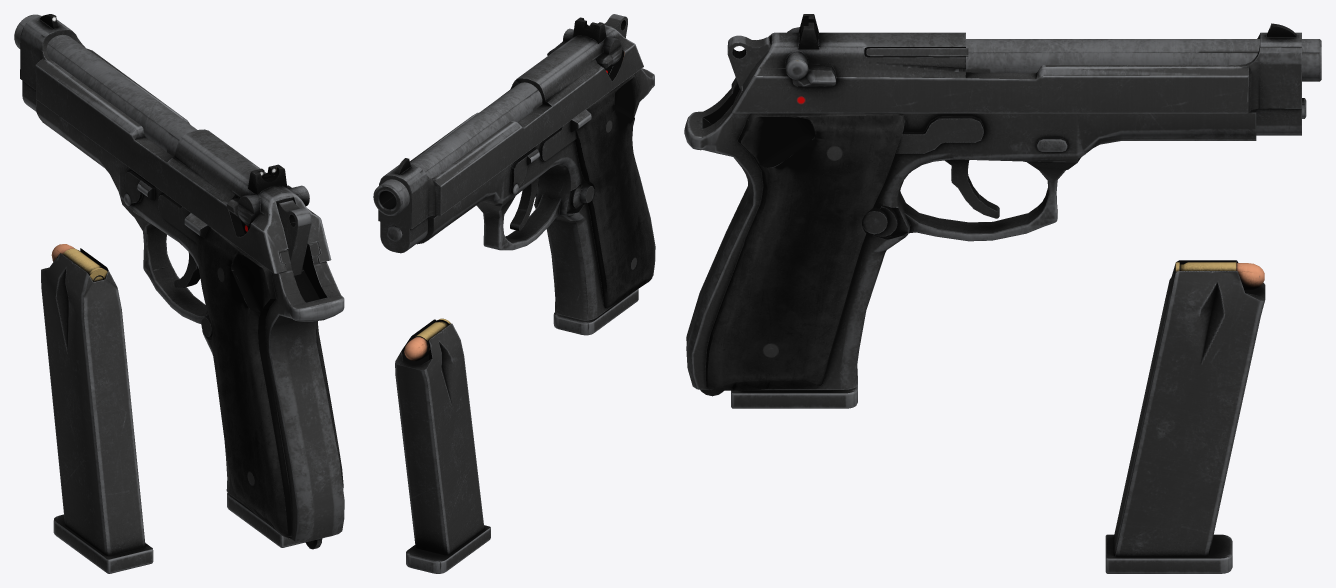
3 views of the same model, side by side, from view 1: azimuth 30°, elevation 25°; view 2: azimuth 150°, elevation 25°; view 3: azimuth 270°, elevation 25° (orthographic). The views are drawn at different scales.
Visible parts, largest first — view 1: Cube, Cube.007, Cube.001, Cube.002, Cube.003; view 2: Cube, Cube.007, Cube.001, Cube.003; view 3: Cube, Cube.001, Cube.007, Cube.003, Cube.002.
Part boxes in pixels (x1,y1,x2,y2): Cube: (14,14,344,549); Cube.007: (41,244,153,573); Cube.001: (20,14,331,273); Cube.002: (278,200,311,275); Cube.003: (227,492,324,547); Cube: (373,68,655,320); Cube.007: (395,318,490,573); Cube.001: (378,17,643,253); Cube.003: (553,289,638,335); Cube: (684,39,1321,396); Cube.001: (731,14,1301,135); Cube.007: (1105,260,1265,573); Cube.003: (731,376,857,408); Cube.002: (727,35,770,88).
Size of the model in its own units: 120 by 795 by 848.
